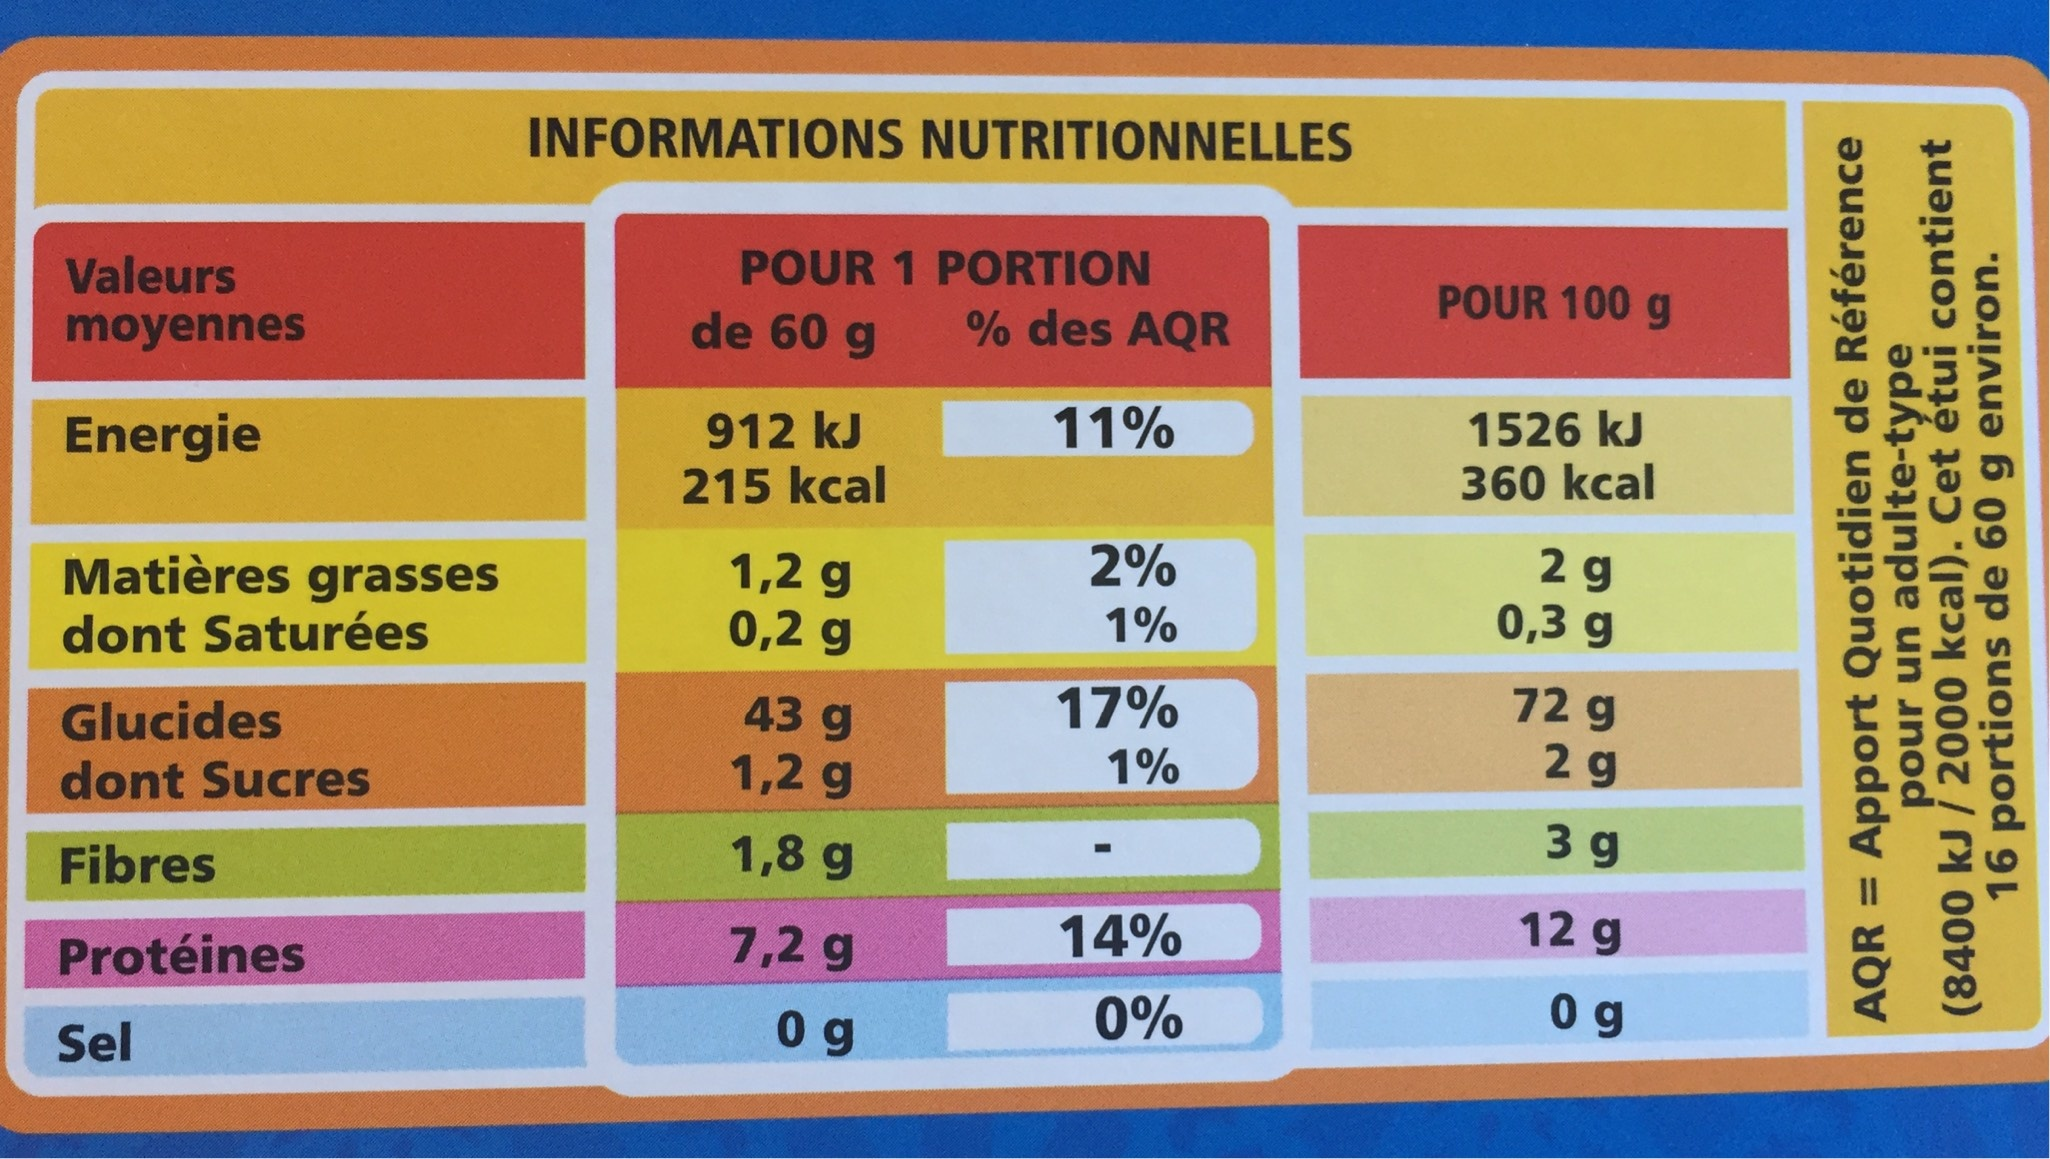column: (680, 244, 1257, 1055), (46, 234, 500, 1075), (1433, 277, 1683, 1048)
table: (7, 32, 2050, 1129)
